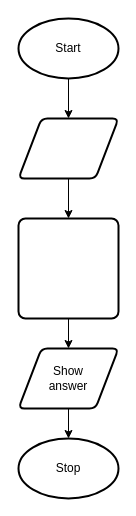
This 136x516 diagram has some shape labels left out. Each missing label, with the centre of its shape:
"Answer = celcius * 9 / 5 + 32" belongs at (x=68, y=268).
"Get temperature" belongs at (x=68, y=148).
